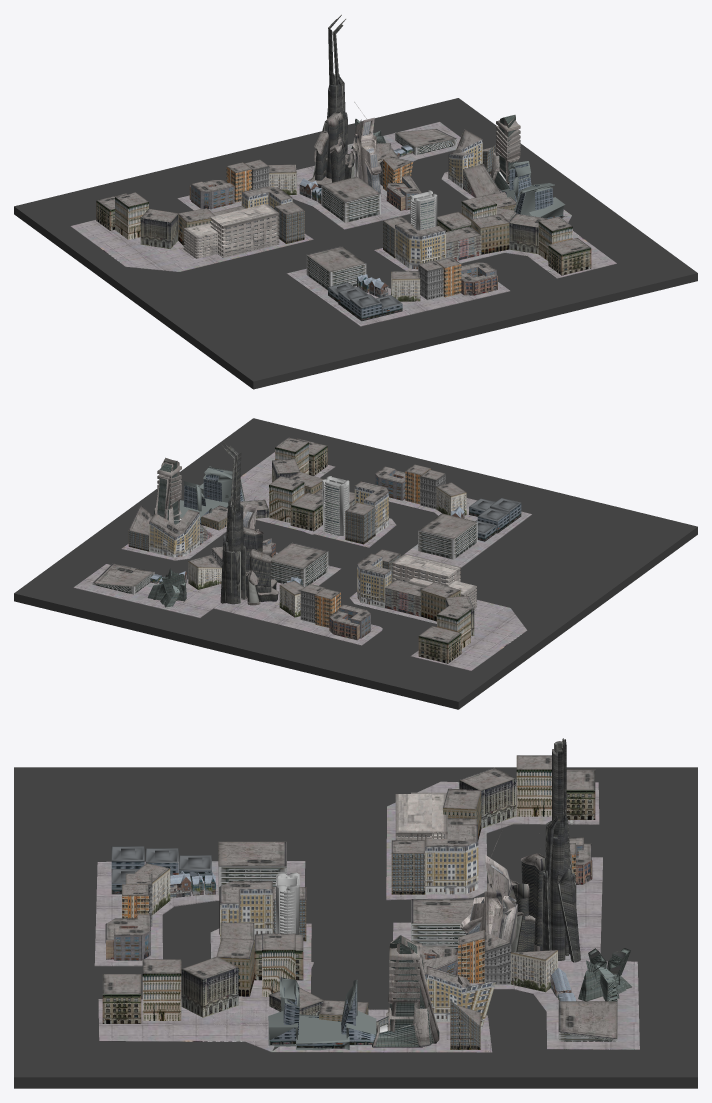
The model's file is destroyedCityModel.obj.
3 views of the same model, one above another, from view 1: azimuth 30°, elevation 25°; view 2: azimuth 150°, elevation 25°; view 3: azimuth 270°, elevation 25° (orthographic). The views are drawn at different scales.
Parts seen in each view (by area): view 1: The_City, mesh01, b6, b4, b3, b1, b2, top; view 2: The_City, mesh01, b6, b3, b4, b1, b2, b5, top; view 3: The_City, mesh01, b6, b3, b1, b4, b5, b2, top.
Part boxes in pixels (box(x1,y1,x2,y2)): The_City: box(14, 98, 697, 389); mesh01: box(70, 122, 616, 326); b6: box(308, 74, 381, 196); b4: box(183, 203, 279, 258); b3: box(490, 115, 565, 219); b1: box(328, 282, 402, 321); b2: box(410, 190, 437, 230); top: box(328, 14, 345, 89); The_City: box(14, 418, 697, 709); mesh01: box(73, 437, 531, 670); b6: box(220, 497, 278, 605); b3: box(154, 457, 244, 524); b4: box(392, 553, 476, 609); b1: box(469, 498, 521, 541); b2: box(322, 476, 349, 535); b5: box(147, 568, 186, 607); top: box(221, 442, 241, 515); The_City: box(14, 767, 697, 1088); mesh01: box(94, 755, 639, 1052); b6: box(460, 810, 580, 962); b3: box(268, 935, 439, 1050); b1: box(111, 846, 211, 894); b4: box(395, 792, 447, 840); b5: box(578, 948, 632, 1001); b2: box(275, 872, 299, 934); top: box(552, 738, 566, 837).
Bounding box in the file's own units: 2277 × 875 × 2124.
